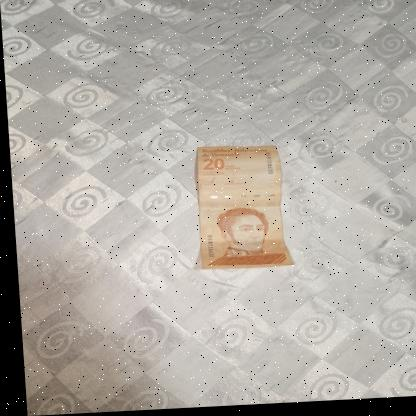twenty-front-vef: (191, 145, 289, 272)
